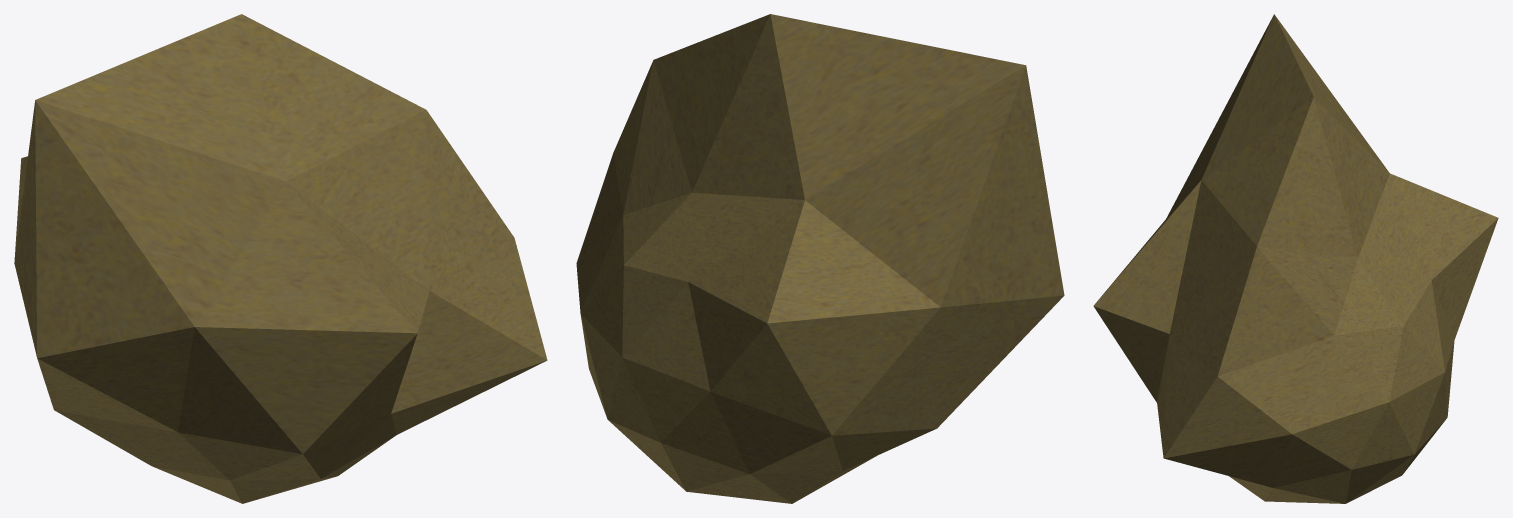
File: caverock.fbx
The picture shows the model from 3 angles, left to right: view 1: azimuth 30°, elevation 25°; view 2: azimuth 150°, elevation 25°; view 3: azimuth 270°, elevation 25°; orthographic projection. The views are drawn at different scales.
Visible parts, largest first — view 1: Icosphere.001; view 2: Icosphere.001; view 3: Icosphere.001.
Part boxes in pixels (box(x1,y1,x2,y2)): Icosphere.001: box(14, 14, 547, 503); Icosphere.001: box(576, 14, 1064, 503); Icosphere.001: box(1093, 14, 1498, 503).
Size of the model in its own units: 1986 by 1949 by 1819.
